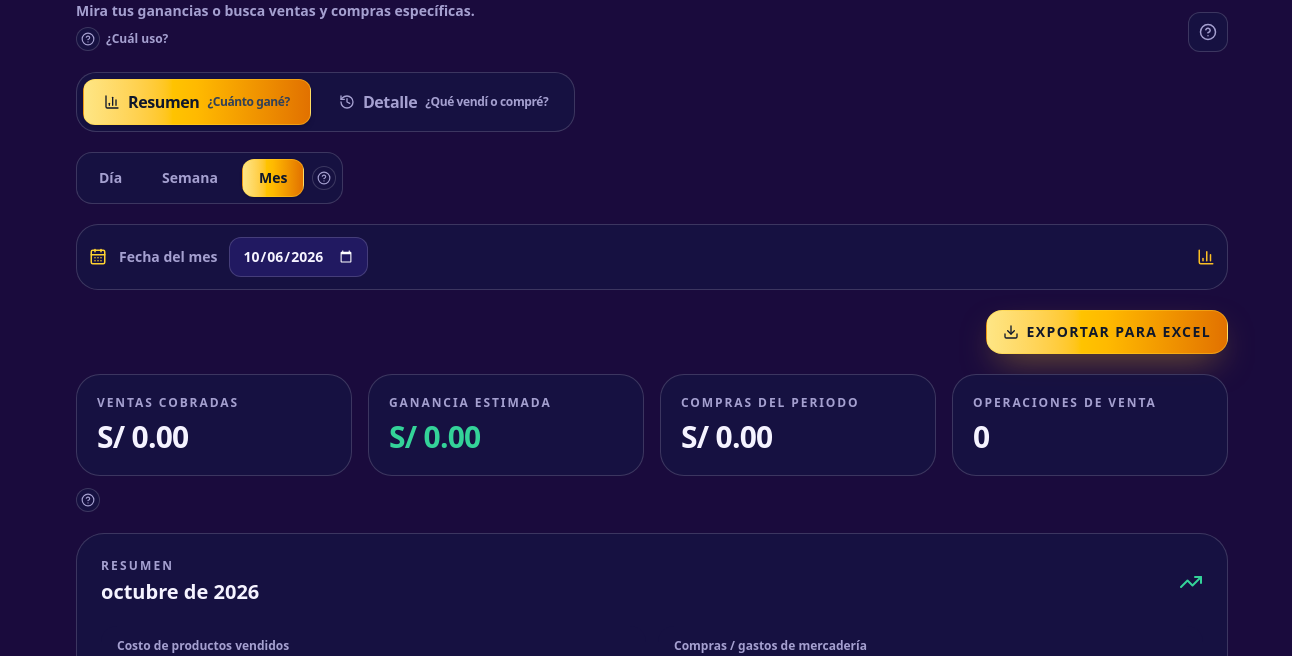
Test: MovimientosPage › cambia a Detalle y lo deja anotado en la dirección
The width and height of the screenshot is (1292, 656).
What coordinates should you click on to do the following:
click the tab "Detalle ¿Qué vendí o compré?"
I would click on:
 (444, 102)
Its box is [319,78,568,124].
(page scrolled)
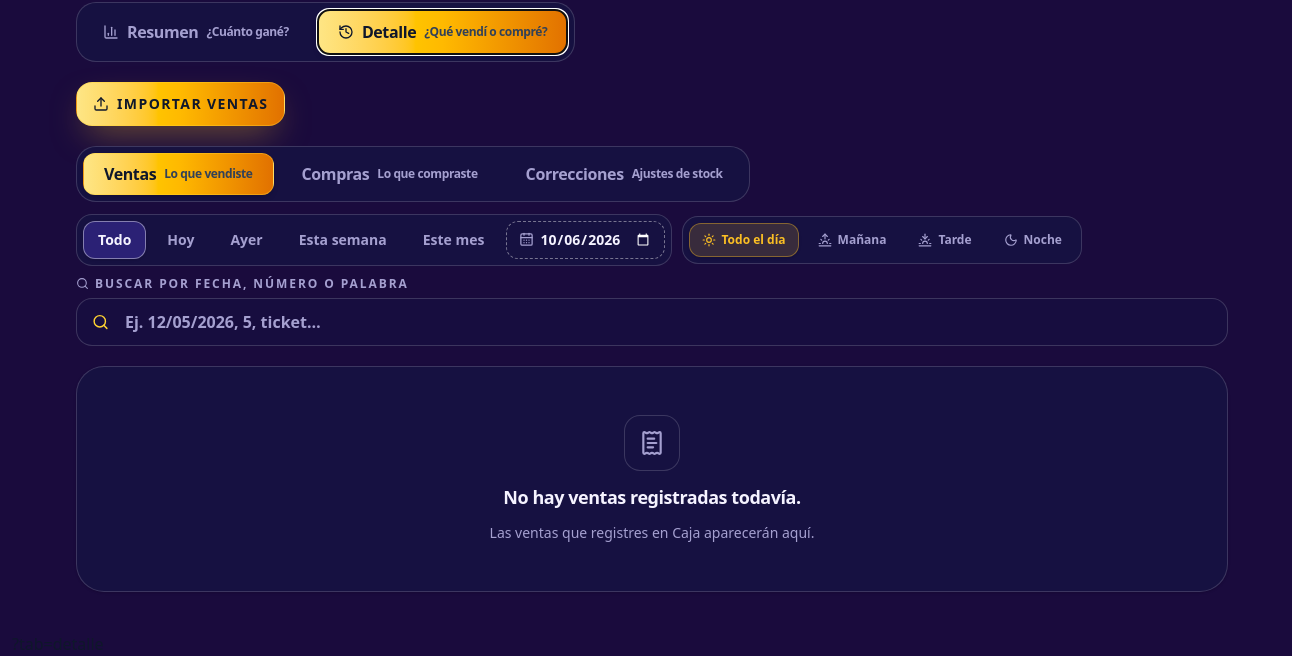
Result: the panel named "Detalle" is shown
